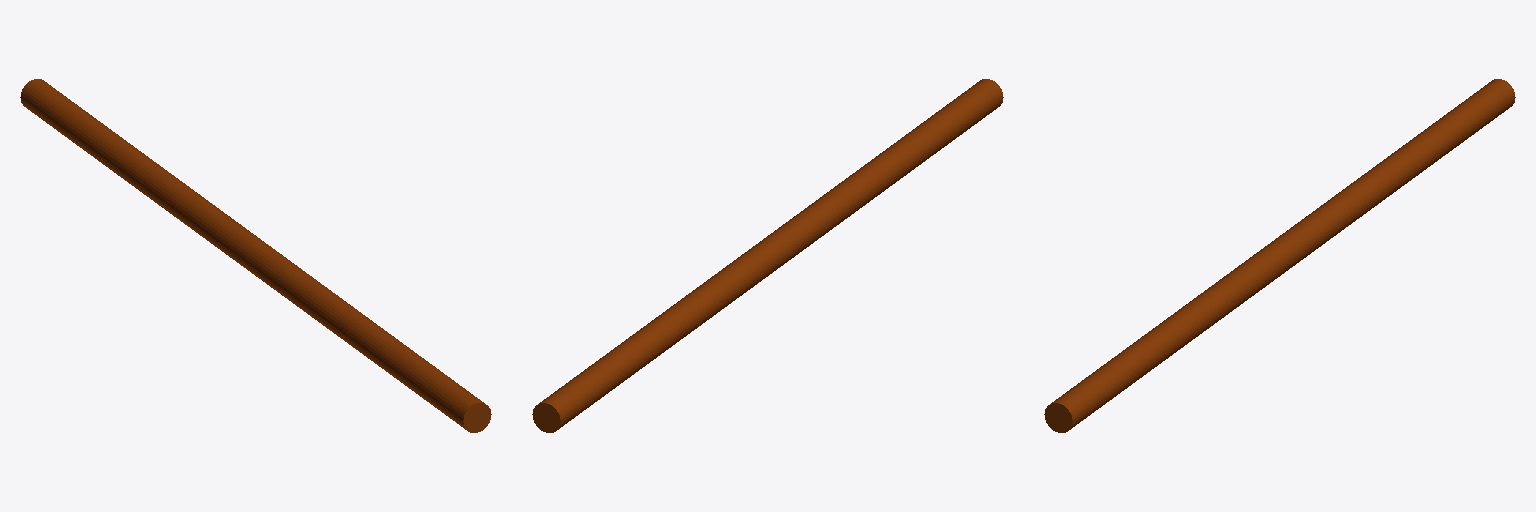
URDF robot description (cylinder):
<?xml version="1.0" ?>
<!-- =================================================================================== -->
<!-- |    This document was autogenerated by xacro from cylinder.xacro                 | -->
<!-- |    EDITING THIS FILE BY HAND IS NOT RECOMMENDED                                 | -->
<!-- =================================================================================== -->
<robot name="cylinder">
  <link name="world"/>
  <link name="base">
    <visual>
      <origin rpy="1.57079633 0 0" xyz="0 0 0"/>
      <geometry>
        <cylinder length="7.07106781185" radius="0.13"/>
      </geometry>
      <material name="cylinder_material">
        <color rgba="0.545 0.271 0.075 1.0"/>
        <texture filename="../textures/tree_bark.jpg"/>
      </material>
    </visual>
    <collision>
      <origin rpy="1.57079633 0 0" xyz="0 0 0"/>
      <geometry>
        <cylinder length="7.07106781185" radius="0.13"/>
      </geometry>
    </collision>
    <inertial>
      <origin rpy="0 0 0" xyz="0 0 0"/>
      <mass value="1"/>
      <inertia ixx="4.170891666648428" ixy="0.0" ixz="0.0" iyy="4.170891666648428" iyz="0.0" izz="24.999999999890573"/>
    </inertial>
  </link>
  <joint name="base_joint" type="fixed">
    <parent link="world"/>
    <child link="base"/>
    <origin rpy="0 0 0" xyz="0.0 0.0 0.0"/>
  </joint>
</robot>

--- Facts derived from the render (not from the file) ---
The picture shows the robot from 3 angles, left to right: view 1: azimuth 30°, elevation 25°; view 2: azimuth 150°, elevation 25°; view 3: azimuth 330°, elevation 25°; orthographic projection.
Robot: cylinder — 2 links, 1 joints (1 fixed); root link world; default pose: all joints at 0.
Links seen in each view (by area): view 1: base; view 2: base; view 3: base.
Boxes of the visible links, x1,y1,x2,y2 form: base: (20, 79, 491, 432); base: (532, 79, 1003, 432); base: (1044, 79, 1515, 432).
Bounding box of the posed robot: 0.26 × 7.07 × 0.26 m (x, y, z).
Geometry: primitives only (box / cylinder / sphere), no mesh files.
